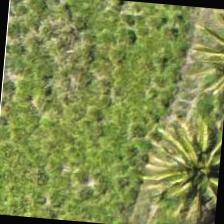Kelapa_Sawit: (169, 124, 223, 218)
